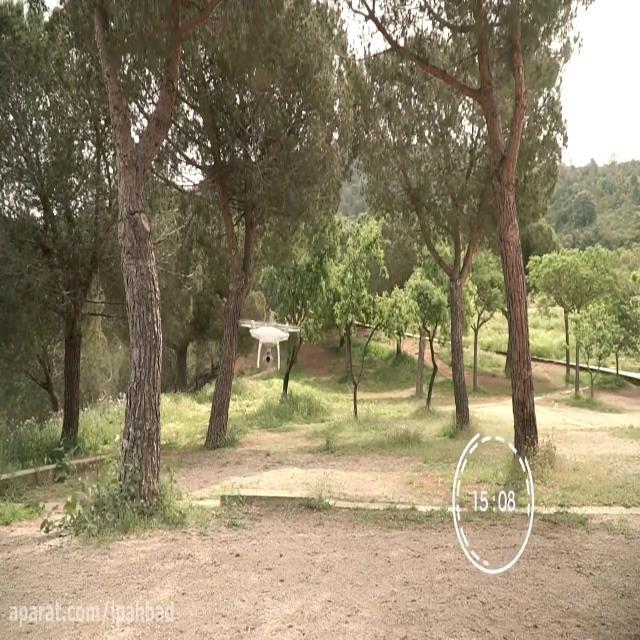drone: (236, 314, 302, 372)
